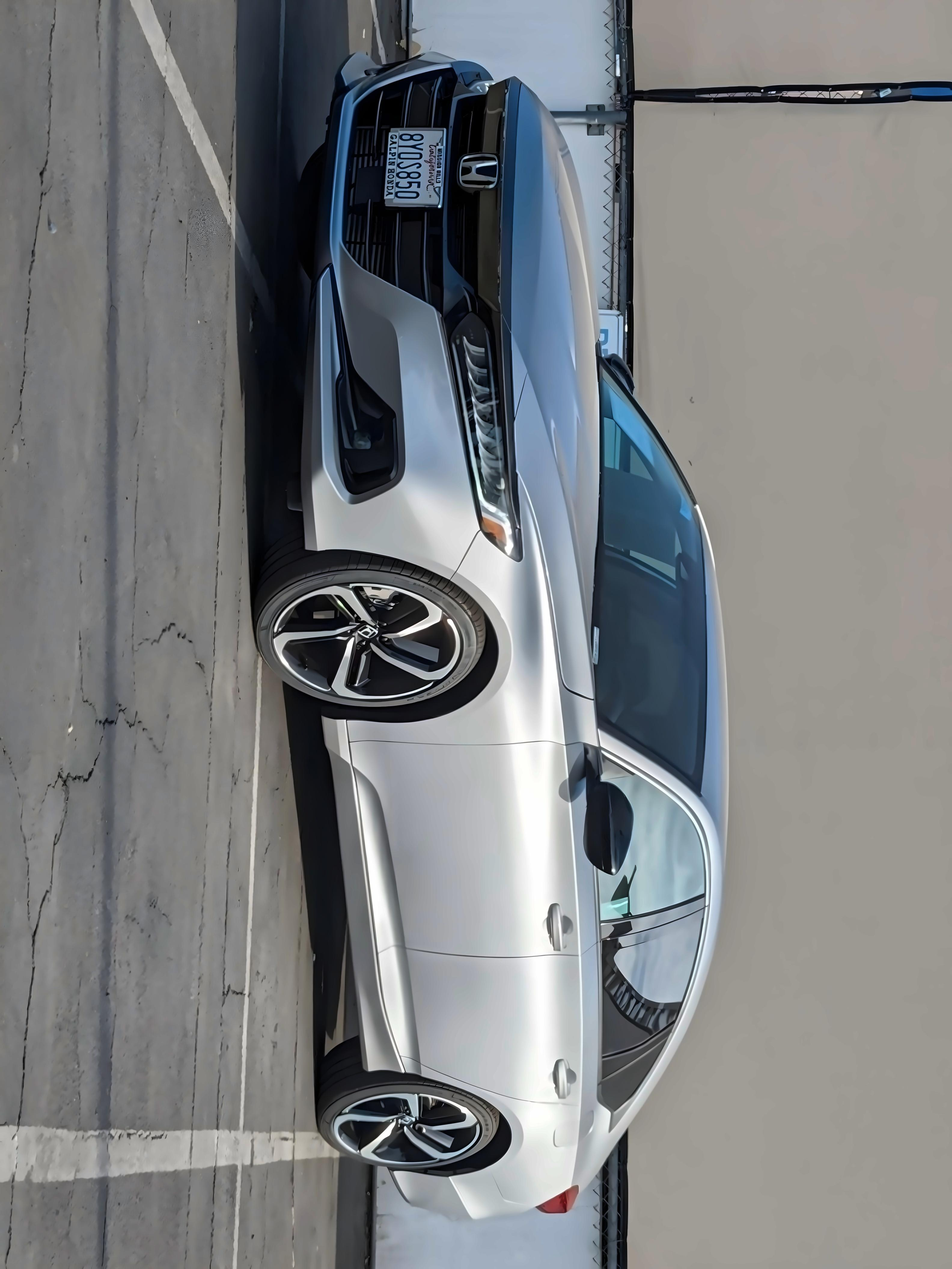Car hood: (502, 60, 629, 714)
Fender - -F-L-: (323, 526, 616, 762)
Fender - -R-L-: (358, 1073, 696, 1221)
Front bumper: (292, 45, 496, 604)
Headlight - -L-: (448, 319, 528, 564)
Passenger-s door - -F-L-: (304, 727, 739, 970)
Passenger-s door - -R-L-: (325, 896, 750, 1117)
Side bumper - -L-: (295, 709, 445, 1087)
Side mirror - -L-: (562, 739, 645, 882)
